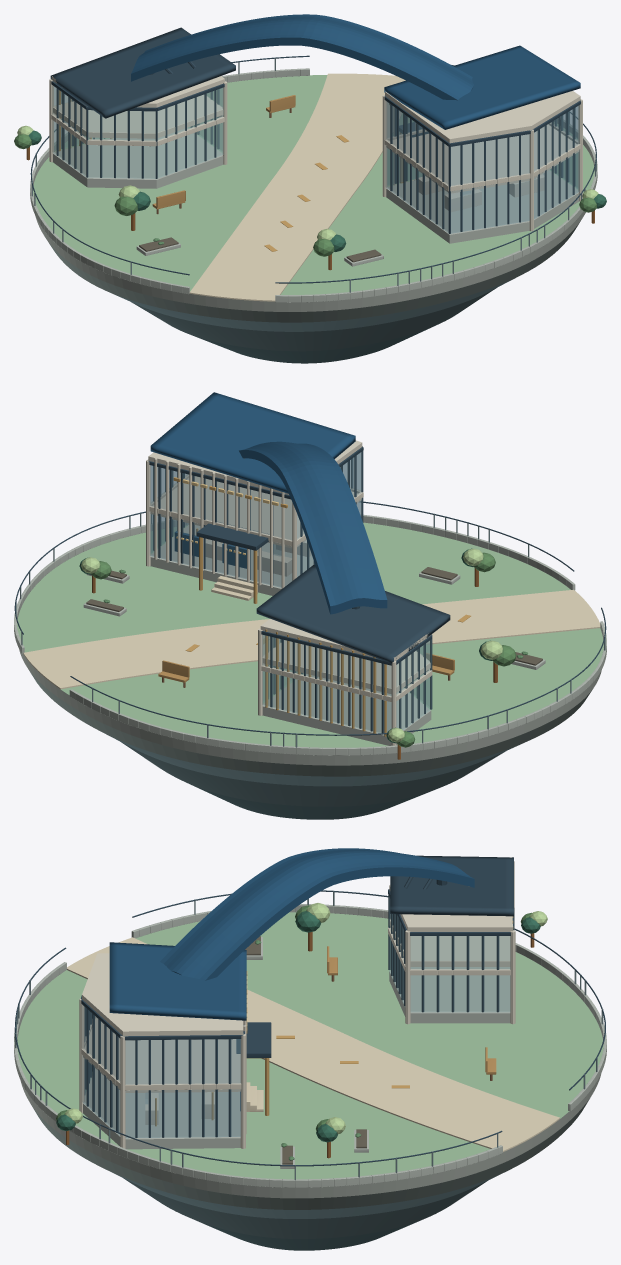
3 views of the same model, one above another, from view 1: azimuth 30°, elevation 25°; view 2: azimuth 150°, elevation 25°; view 3: azimuth 270°, elevation 25° (orthographic). The views are drawn at different scales.
Parts seen in each view (by area): view 1: ROLE_terrain_Components__grass, ROLE_paving_Components__paveLight, ROLE_building_Components__civicStone, ROLE_building_Components__civicGlass, ROLE_building_Components__stone2, ROLE_building_Components__civicSky, ROLE_building_Components__civicSteel, ROLE_building_Components__mistglass, ROLE_roof_Components__civicSky, ROLE_roof_Components__civicSteel, ROLE_terrain_Components__cliff2, ROLE_rails_Components__stone2 (+11 smaller); view 2: ROLE_terrain_Components__grass, ROLE_building_Components__civicStone, ROLE_paving_Components__paveLight, ROLE_building_Components__civicSky, ROLE_building_Components__mistglass, ROLE_building_Components__civicGlass, ROLE_roof_Components__civicSky, ROLE_roof_Components__civicSteel, ROLE_rails_Components__stone2, ROLE_building_Components__civicSteel, ROLE_building_Components__stone2, ROLE_terrain_Components__stone2 (+13 smaller); view 3: ROLE_terrain_Components__grass, ROLE_building_Components__civicStone, ROLE_paving_Components__paveLight, ROLE_building_Components__civicGlass, ROLE_building_Components__civicSky, ROLE_building_Components__stone2, ROLE_building_Components__civicSteel, ROLE_roof_Components__civicSky, ROLE_rails_Components__stone2, ROLE_building_Components__mistglass, ROLE_roof_Components__civicSteel, ROLE_terrain_Components__stone2 (+9 smaller).
Part boxes in pixels (x1,y1,x2,y2): ROLE_terrain_Components__grass: (33, 75, 594, 294); ROLE_paving_Components__paveLight: (189, 73, 405, 301); ROLE_building_Components__civicStone: (49, 76, 582, 231); ROLE_building_Components__civicGlass: (385, 101, 579, 233); ROLE_building_Components__stone2: (53, 128, 579, 243); ROLE_building_Components__civicSky: (131, 14, 473, 100); ROLE_building_Components__civicSteel: (51, 61, 580, 233); ROLE_building_Components__mistglass: (52, 85, 223, 178); ROLE_roof_Components__civicSky: (384, 45, 580, 129); ROLE_roof_Components__civicSteel: (50, 27, 428, 137); ROLE_terrain_Components__cliff2: (131, 288, 496, 351); ROLE_rails_Components__stone2: (30, 68, 597, 302); ROLE_terrain_Components__grass: (17, 522, 603, 747); ROLE_building_Components__civicStone: (146, 440, 432, 745); ROLE_paving_Components__paveLight: (23, 589, 600, 689); ROLE_building_Components__civicSky: (174, 441, 387, 614); ROLE_building_Components__mistglass: (262, 635, 431, 733); ROLE_building_Components__civicGlass: (150, 451, 362, 587); ROLE_roof_Components__civicSky: (150, 392, 355, 493); ROLE_roof_Components__civicSteel: (196, 522, 450, 663); ROLE_rails_Components__stone2: (14, 514, 606, 755); ROLE_building_Components__civicSteel: (147, 446, 432, 733); ROLE_building_Components__stone2: (150, 525, 431, 745); ROLE_terrain_Components__stone2: (19, 649, 601, 765); ROLE_terrain_Components__grass: (17, 912, 603, 1179); ROLE_building_Components__civicStone: (79, 857, 515, 1148); ROLE_paving_Components__paveLight: (67, 937, 559, 1151); ROLE_building_Components__civicGlass: (82, 1005, 240, 1138); ROLE_building_Components__civicSky: (160, 848, 474, 1110); ROLE_building_Components__stone2: (83, 967, 510, 1149); ROLE_building_Components__civicSteel: (80, 876, 514, 1137); ROLE_roof_Components__civicSky: (109, 942, 246, 1020); ROLE_rails_Components__stone2: (14, 904, 606, 1187); ROLE_building_Components__mistglass: (389, 897, 510, 1012); ROLE_roof_Components__civicSteel: (236, 855, 513, 1057); ROLE_terrain_Components__stone2: (20, 1074, 600, 1198).
Bounding box in the file's own units: 31.82 × 18.08 × 28.83.
